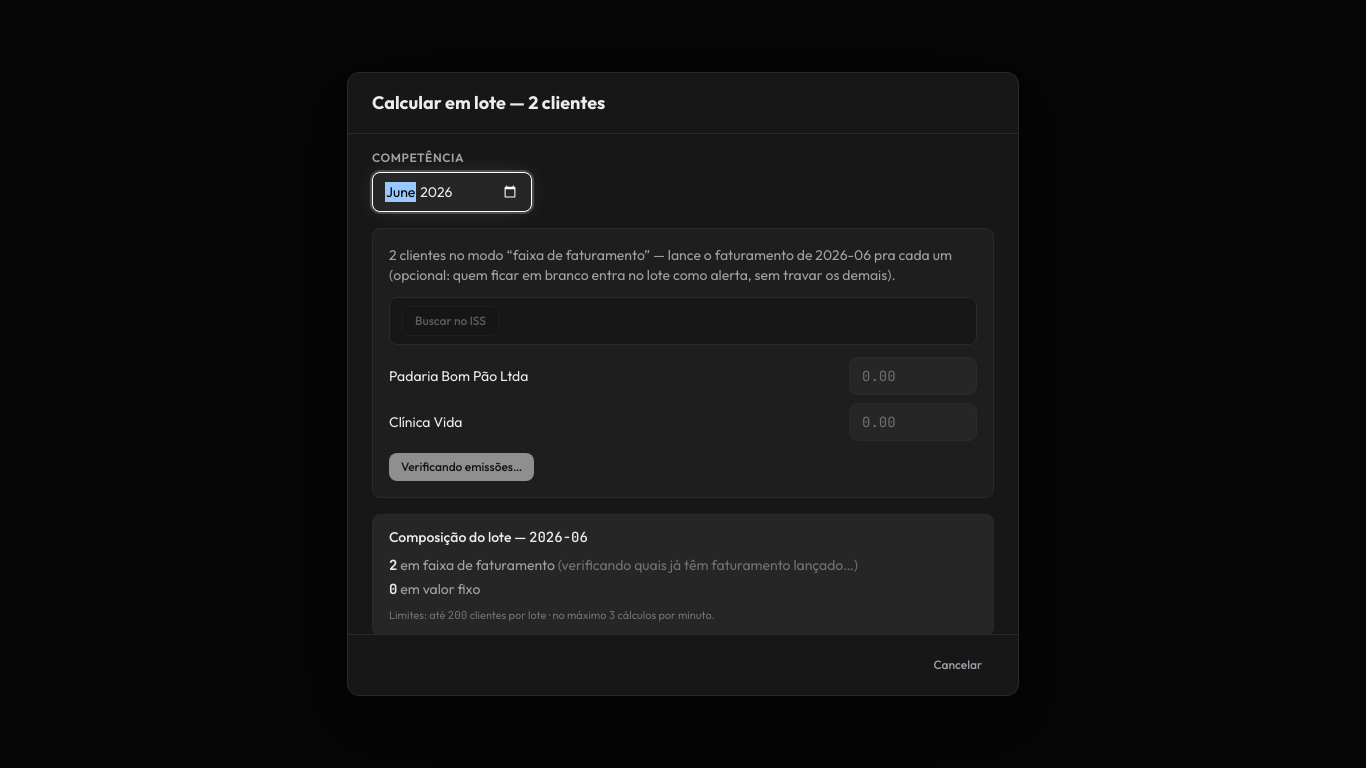
Test case: LoteContabilidadeDialog — lançamento de faturamento em massa (Story 12.4) › AC 2: as falhas aparecem por NOME do cliente, com o motivo, em bloco persistente
Type "4500" into the number field with placeholder "0.00" in the row of "Padaria Bom Pão Ltda" at (913, 376), box [849,357,977,395]
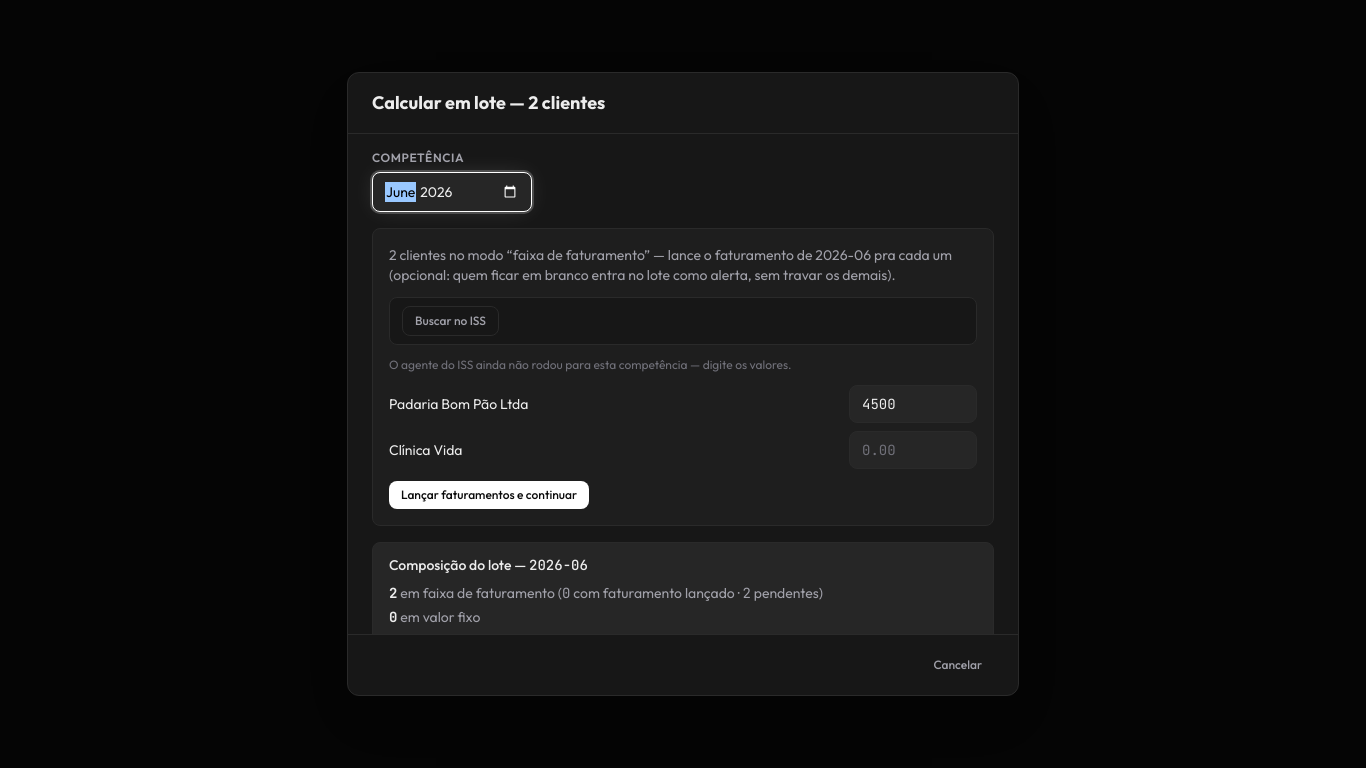
Type "9000" into the number field with placeholder "0.00" at (913, 450), box [849,431,977,469]
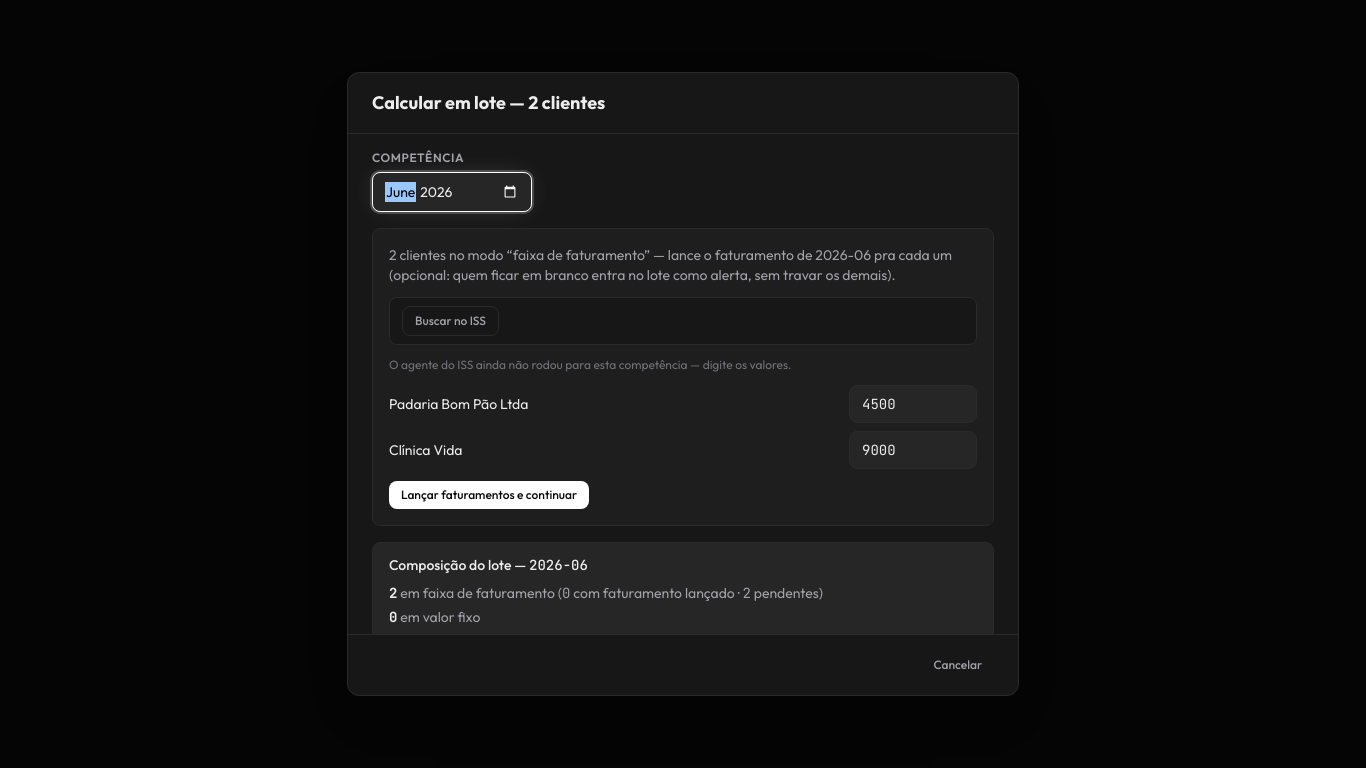
Click the button "Lançar faturamentos e continuar" at (489, 495), box [389,481,589,509]
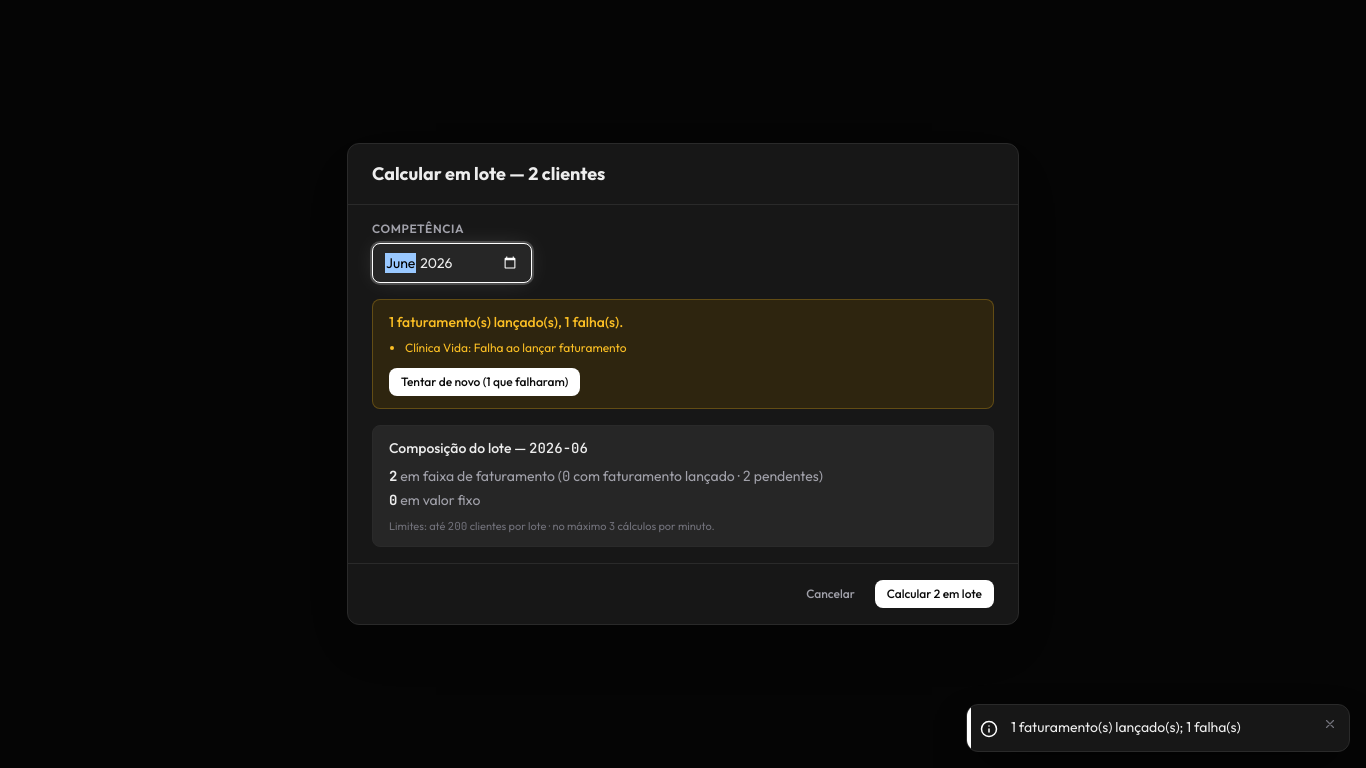
Check: the text "1 faturamento(s) lançado(s), 1 falha(s)." is shown, box [389,313,623,331]
Check: the button "Calcular 2 em lote" is shown, box [875,580,994,608]
Check: the list item "Clínica Vida: Falha ao lançar faturamento" is shown, box [405,340,627,355]
